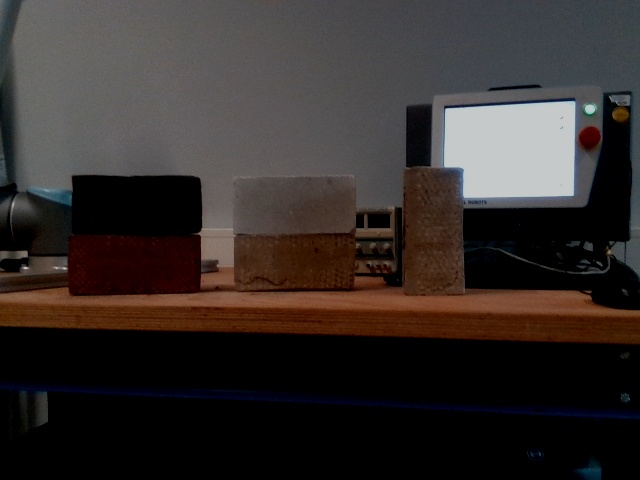brick: (404, 169, 464, 293), (73, 176, 200, 231), (69, 236, 196, 291), (231, 175, 357, 230), (237, 234, 354, 289)
